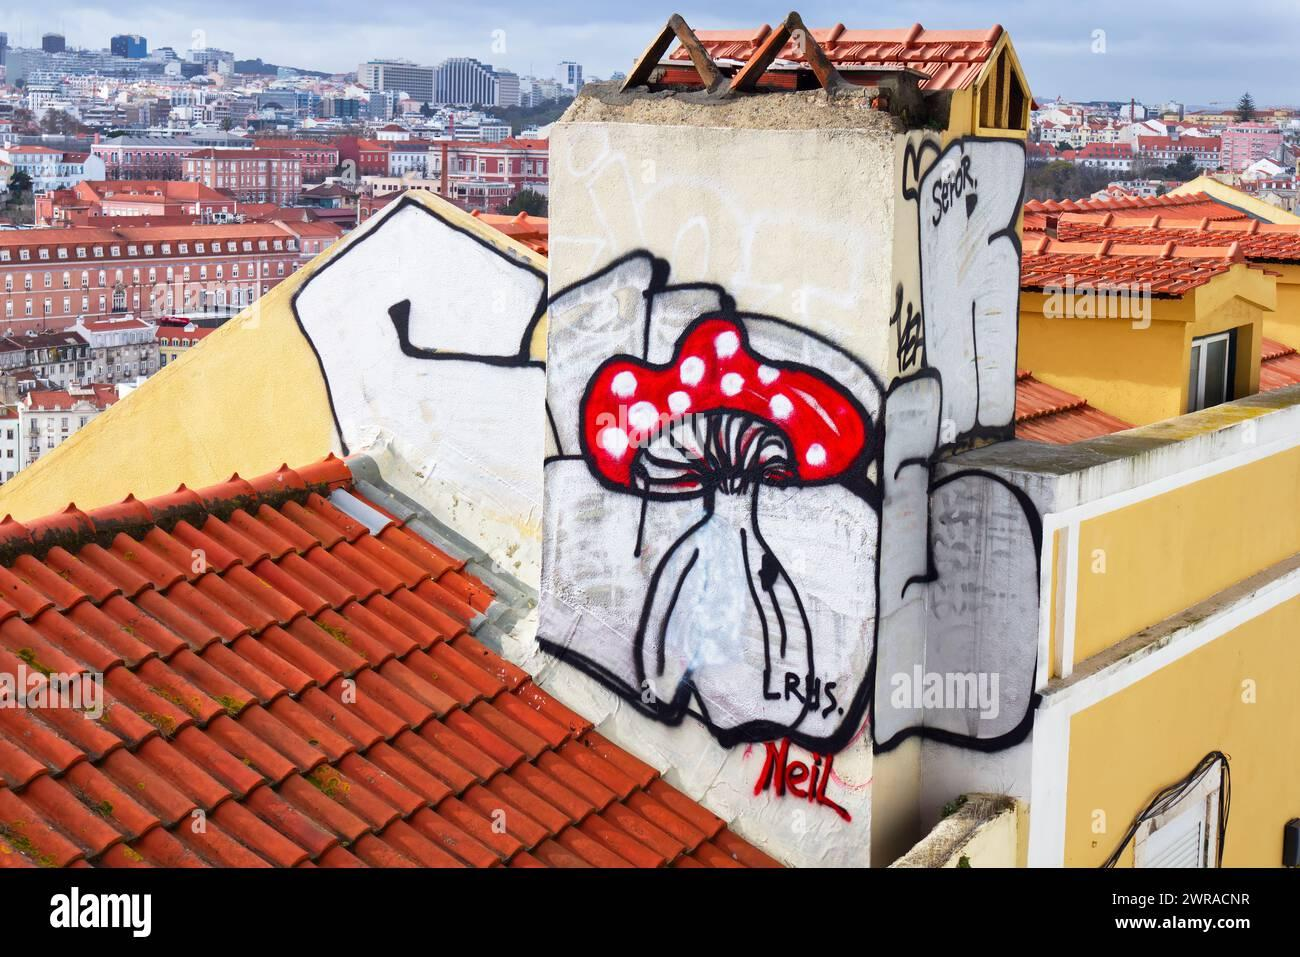graffiti: (537, 251, 882, 821), (292, 196, 546, 568), (874, 368, 1040, 751), (919, 137, 1023, 445), (890, 282, 924, 376), (902, 134, 922, 203)
